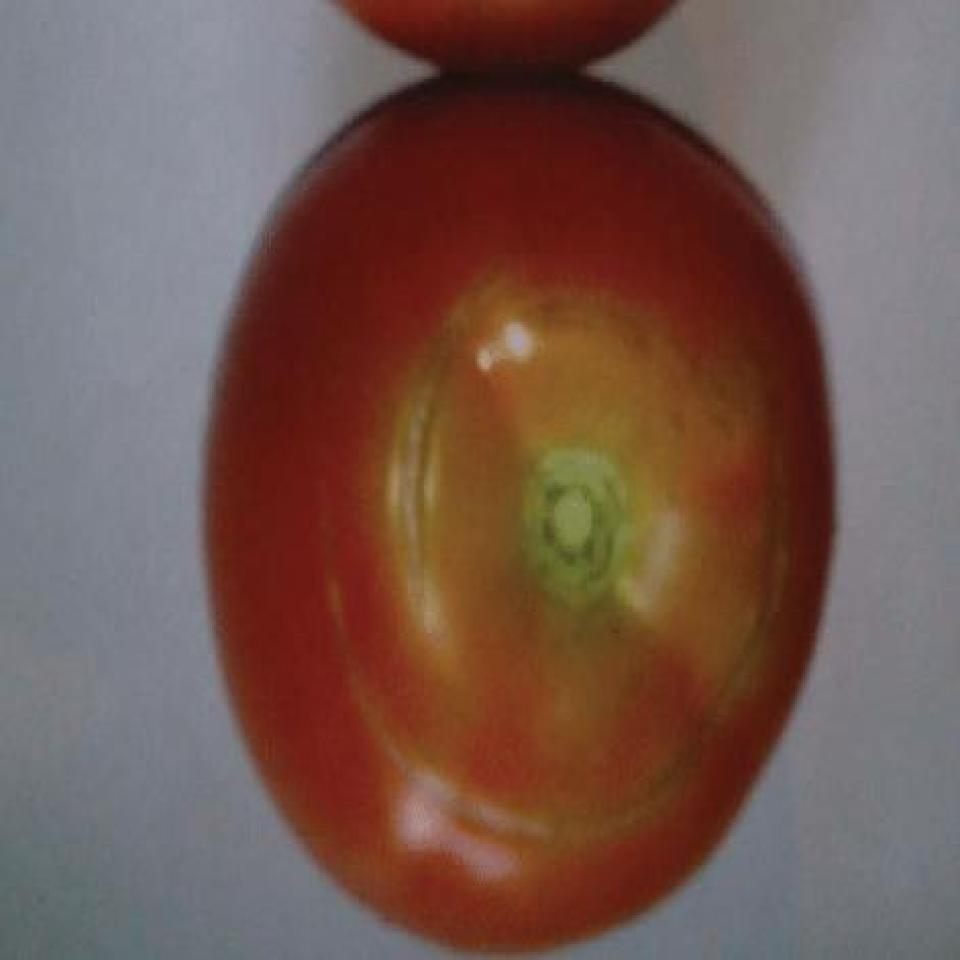Cracking: (281, 548, 803, 859), (500, 221, 805, 526), (372, 246, 510, 647)
